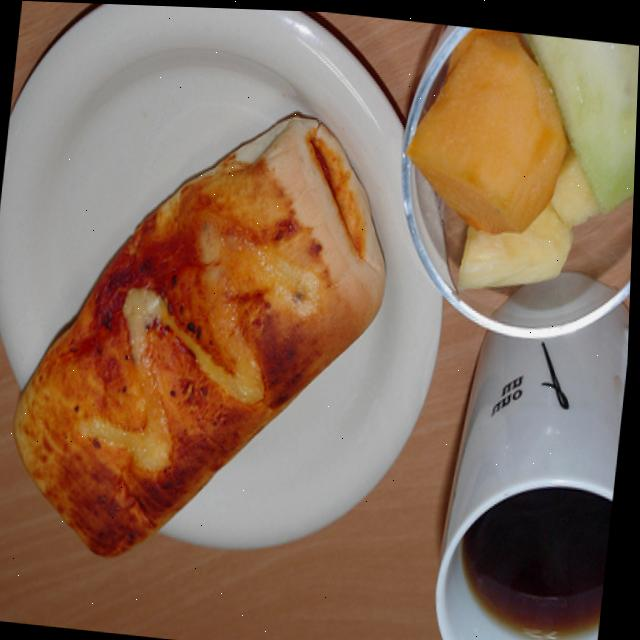三明治: (8, 70, 398, 579)
